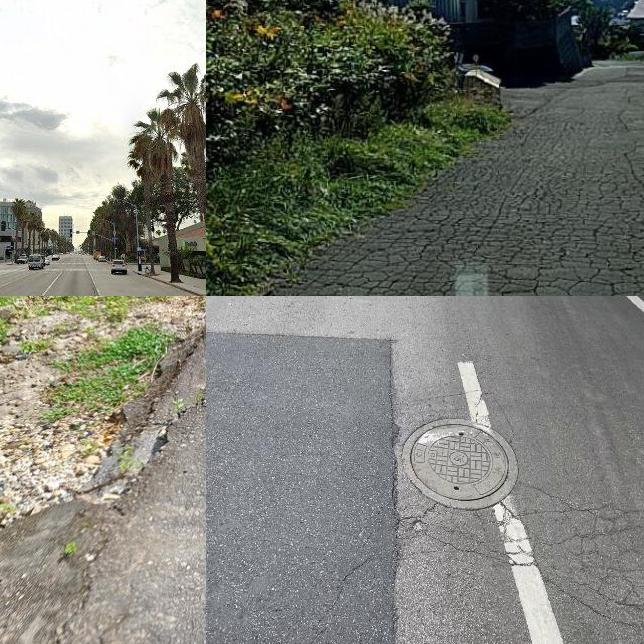Lubang: (410, 422, 514, 509)
Pinggir: (0, 296, 206, 644)
Retak Buaya: (254, 127, 644, 296)
Sambungan: (206, 330, 395, 644)
